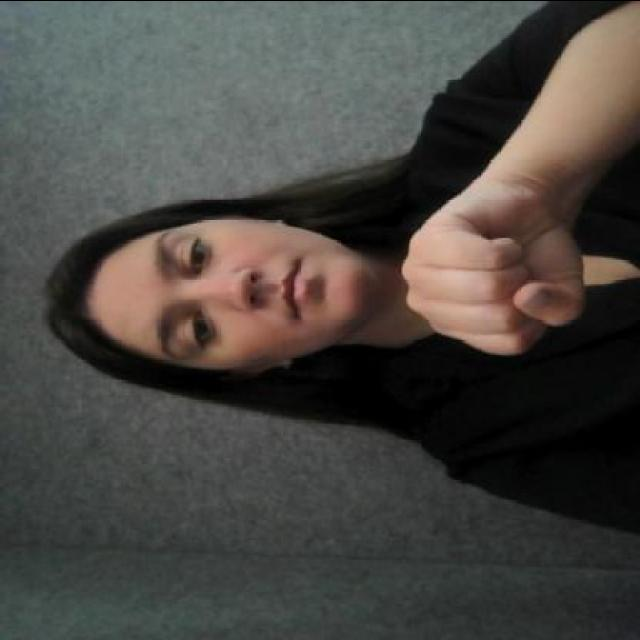Rock: (396, 180, 594, 354)
